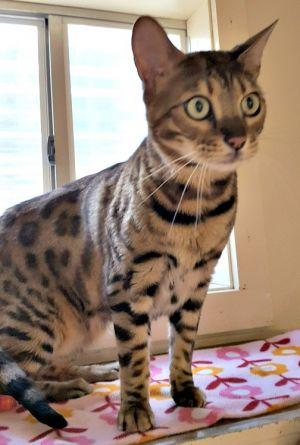bengal: (122, 6, 288, 180)
